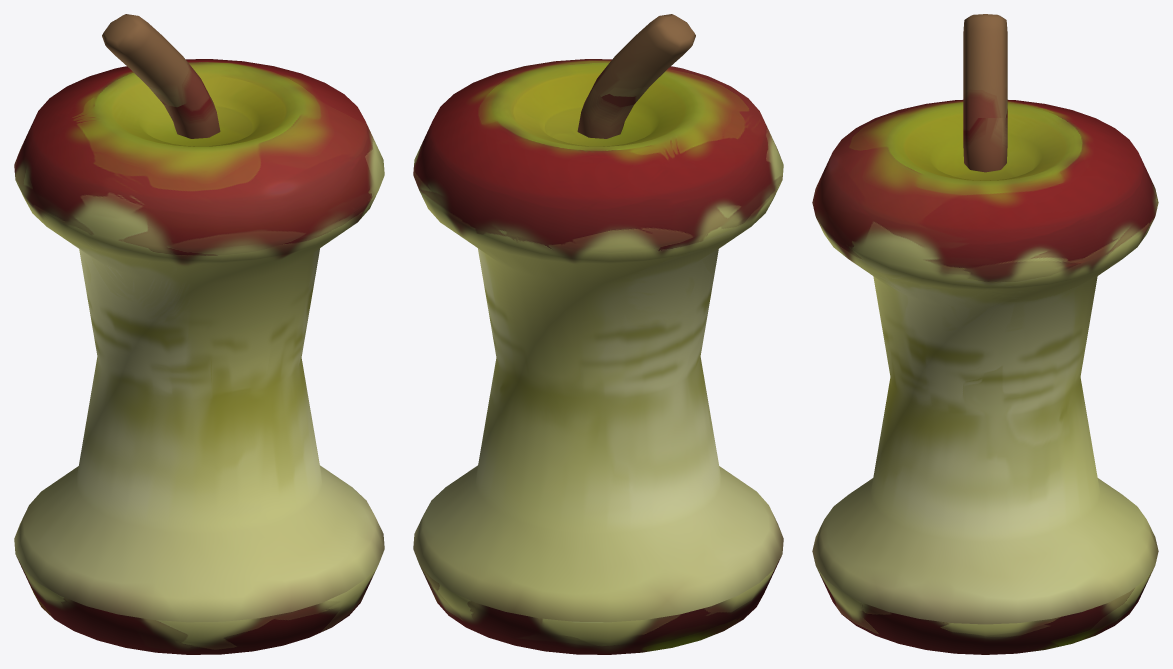
The model's file is NewApple.fbx.
3 renders of one model, left to right at view 1: azimuth 30°, elevation 25°; view 2: azimuth 150°, elevation 25°; view 3: azimuth 270°, elevation 25°, orthographic. The views are drawn at different scales.
Visible parts, largest first — view 1: AppleCore; view 2: AppleCore; view 3: AppleCore.
Part boxes in pixels (bbox=[...]): AppleCore: bbox=[14, 14, 384, 654]; AppleCore: bbox=[413, 14, 783, 654]; AppleCore: bbox=[812, 14, 1158, 654].
Size of the model in its own units: 180 by 325 by 180.
Materials: 1 (1 with a texture image).
